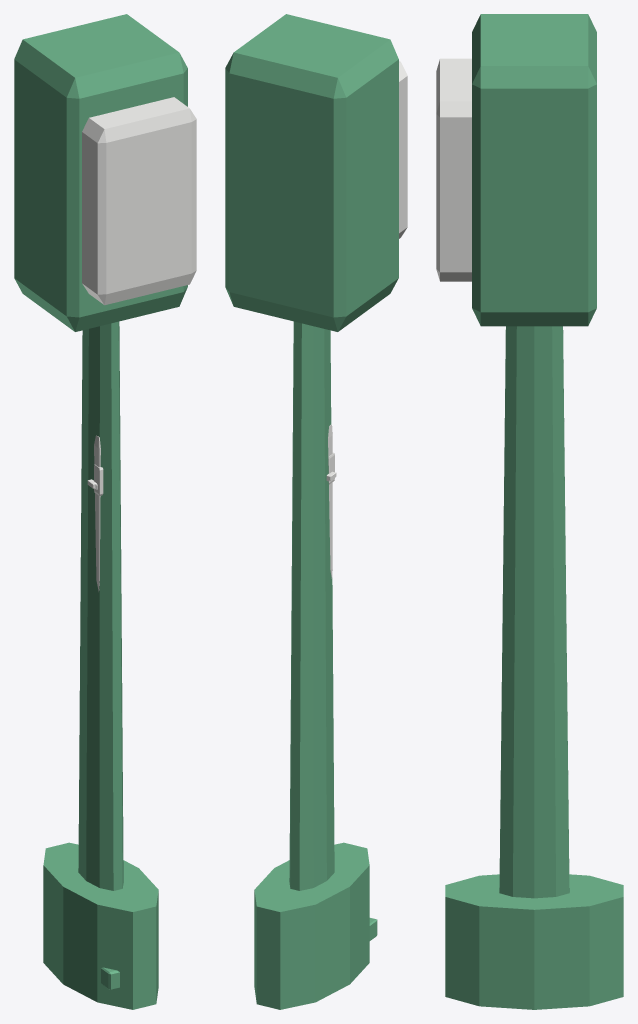
The model's file is b02_single_parking_meter.glb.
The picture shows the model from 3 angles, left to right: view 1: azimuth 30°, elevation 25°; view 2: azimuth 150°, elevation 25°; view 3: azimuth 270°, elevation 25°; orthographic projection. The views are drawn at different scales.
Parts seen in each view (by area): view 1: b02_single_parking_meter; view 2: b02_single_parking_meter; view 3: b02_single_parking_meter.
Boxes of the visible parts, bbox=[...] form: b02_single_parking_meter: bbox=[14, 14, 196, 1009]; b02_single_parking_meter: bbox=[225, 14, 407, 1009]; b02_single_parking_meter: bbox=[436, 14, 623, 1009].
Size of the model in its own units: 0.23 by 1.68 by 0.301.
